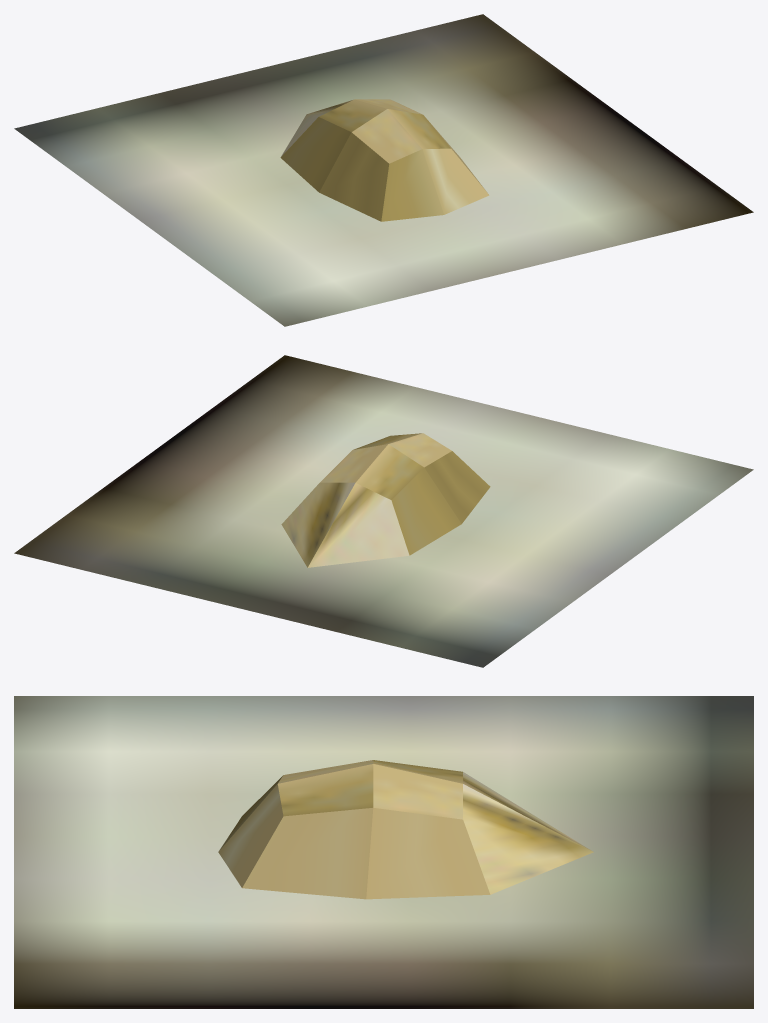
Rendered from mouse.glb.
3 views of the same model, one above another, from view 1: azimuth 30°, elevation 25°; view 2: azimuth 150°, elevation 25°; view 3: azimuth 270°, elevation 25° (orthographic). The views are drawn at different scales.
Parts seen in each view (by area): view 1: palace, mouse; view 2: palace, mouse; view 3: palace, mouse.
Part boxes in pixels (x1,y1,x2,y2): palace: (14,14,753,326); mouse: (280,99,489,221); palace: (14,355,753,667); mouse: (281,433,490,567); palace: (14,696,753,1008); mouse: (218,760,593,899).
Size of the model in its own units: 0.2579 by 0.0339 by 0.2579.
2 materials, 2 textured.
